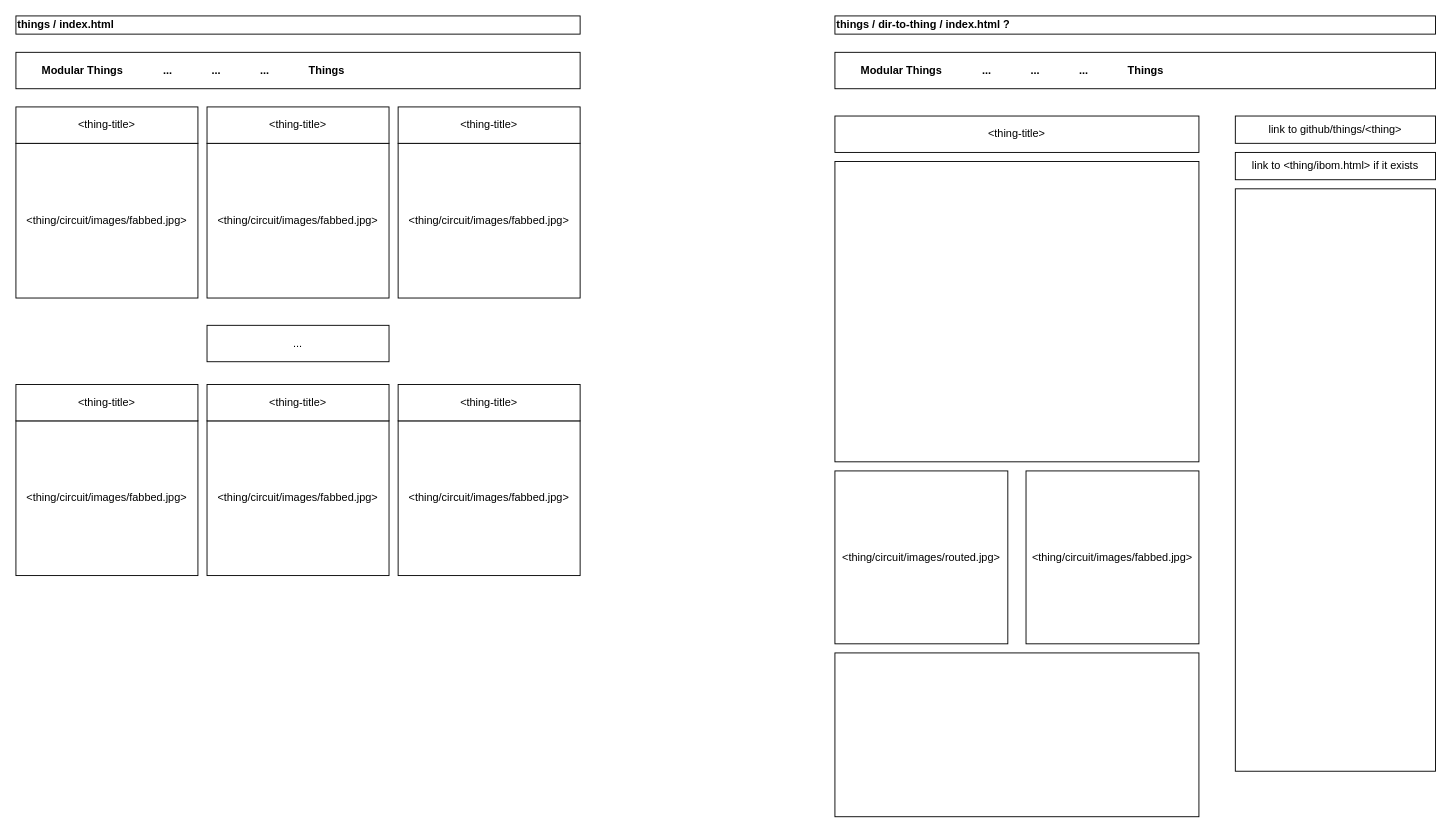
Image size: 1451x833. Some labels were removed from this diagram. The centre of each missing label's shape, as x and y in pixels:
... IDK, similar things ? nothing ? tags ?: (1335,479)
<thing/circuit/images/schematic.jpg>: (1016,734)
render <thing/README.md>: (1016,311)
